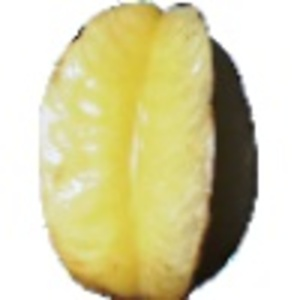carambola: (37, 1, 258, 300)
